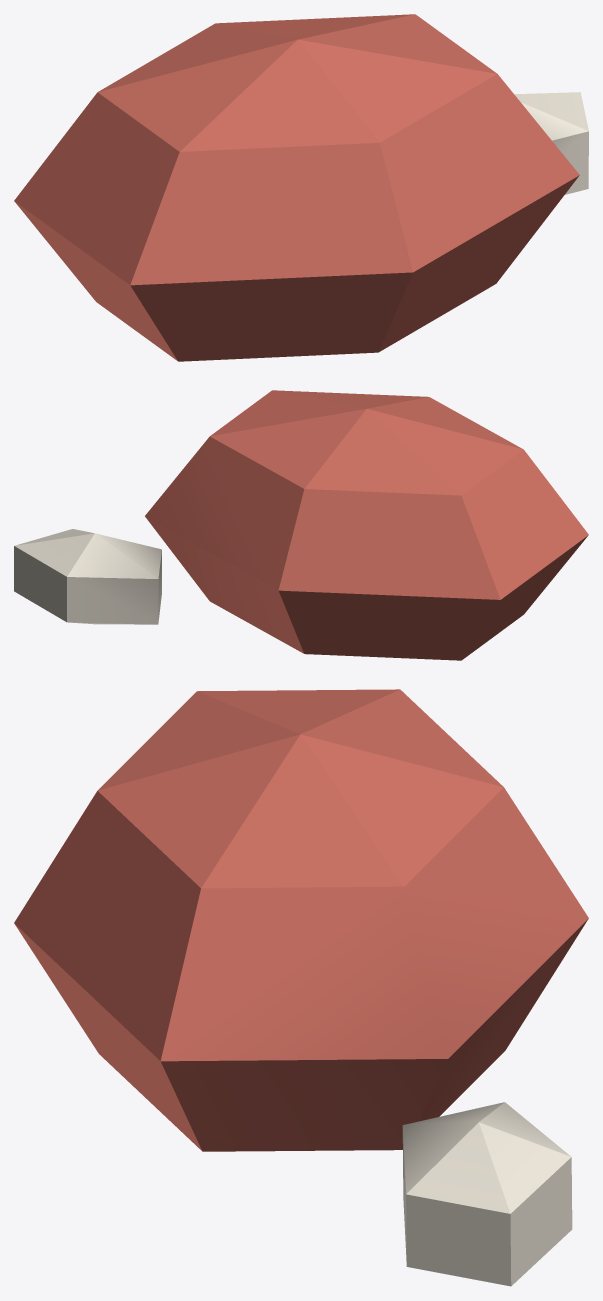
File: forage_stone.glb
3 renders of one model, top to bottom at view 1: azimuth 30°, elevation 25°; view 2: azimuth 150°, elevation 25°; view 3: azimuth 270°, elevation 25°, orthographic. The views are drawn at different scales.
Visible parts, largest first — view 1: PART; view 2: PART; view 3: PART.
Boxes of the visible parts, bbox=[...] form: PART: bbox=[14, 14, 588, 361]; PART: bbox=[14, 390, 588, 660]; PART: bbox=[14, 689, 588, 1286].
Size of the model in its own units: 0.0967 by 0.0462 by 0.0646.
